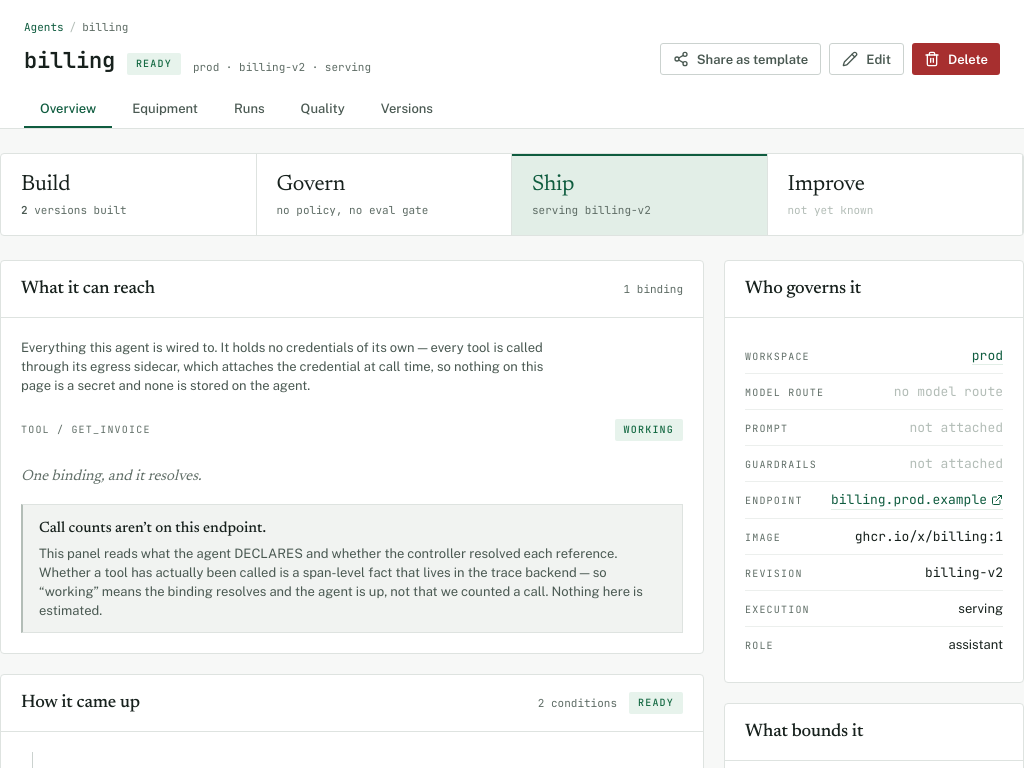
Test: AgentDetailPage (landing page) › renders the header, the record, the condition story, what it reaches and its versions
Expected: the heading "billing" is shown, [24,47,115,75]
Expected: the text "tool / get_invoice" is shown, [21,423,151,437]
// Versions have their own tab now.
Step 1. Click the tab "Versions" → (407, 110), box [365,91,449,128]
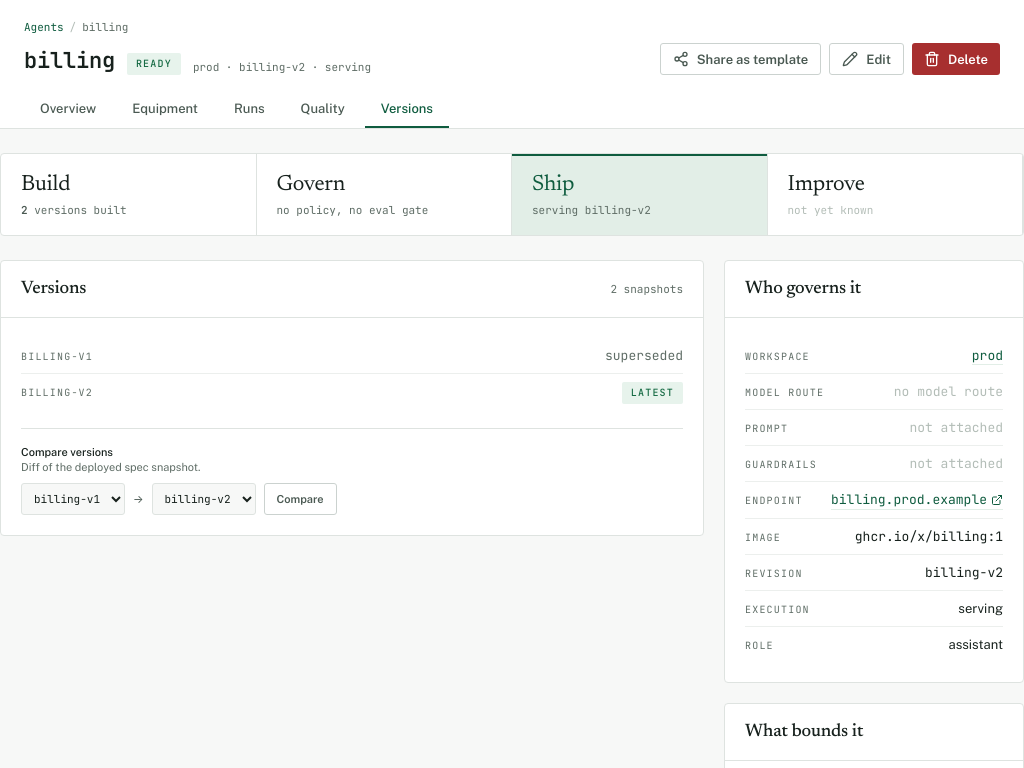
Expected: the element with test id "versions-list" shows "billing-v2", [21,386,93,399]
